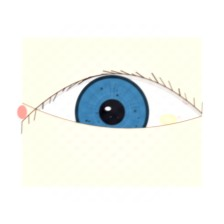pinguecula_lesion: (150, 105, 186, 134)
